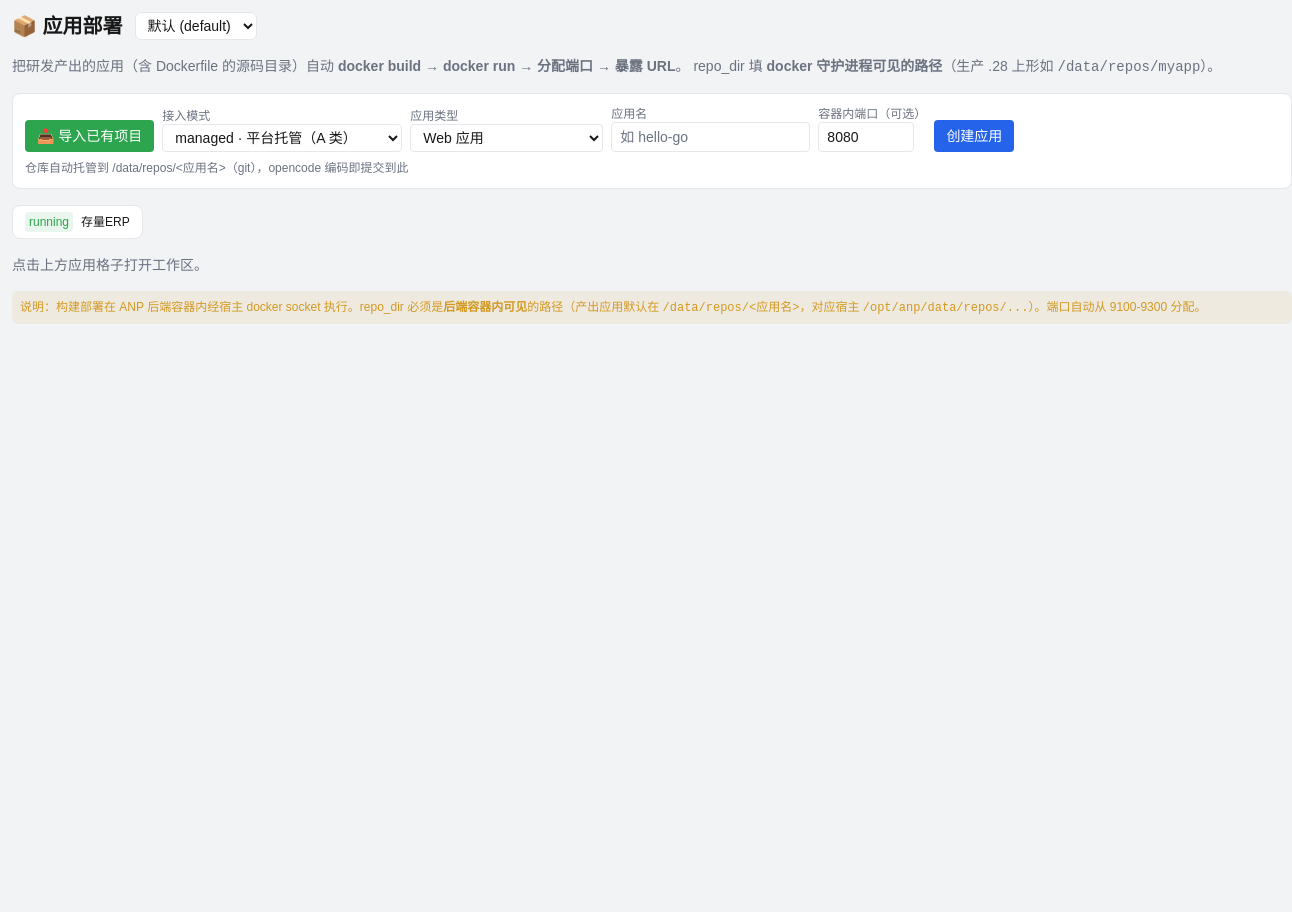
it: ApplicationsPage tab 化壳 › external 应用：探活卡+🔗 访问；无环境卡/DevWizard
Step 1. Click the text "存量ERP" → (105, 222), box [81,214,130,230]
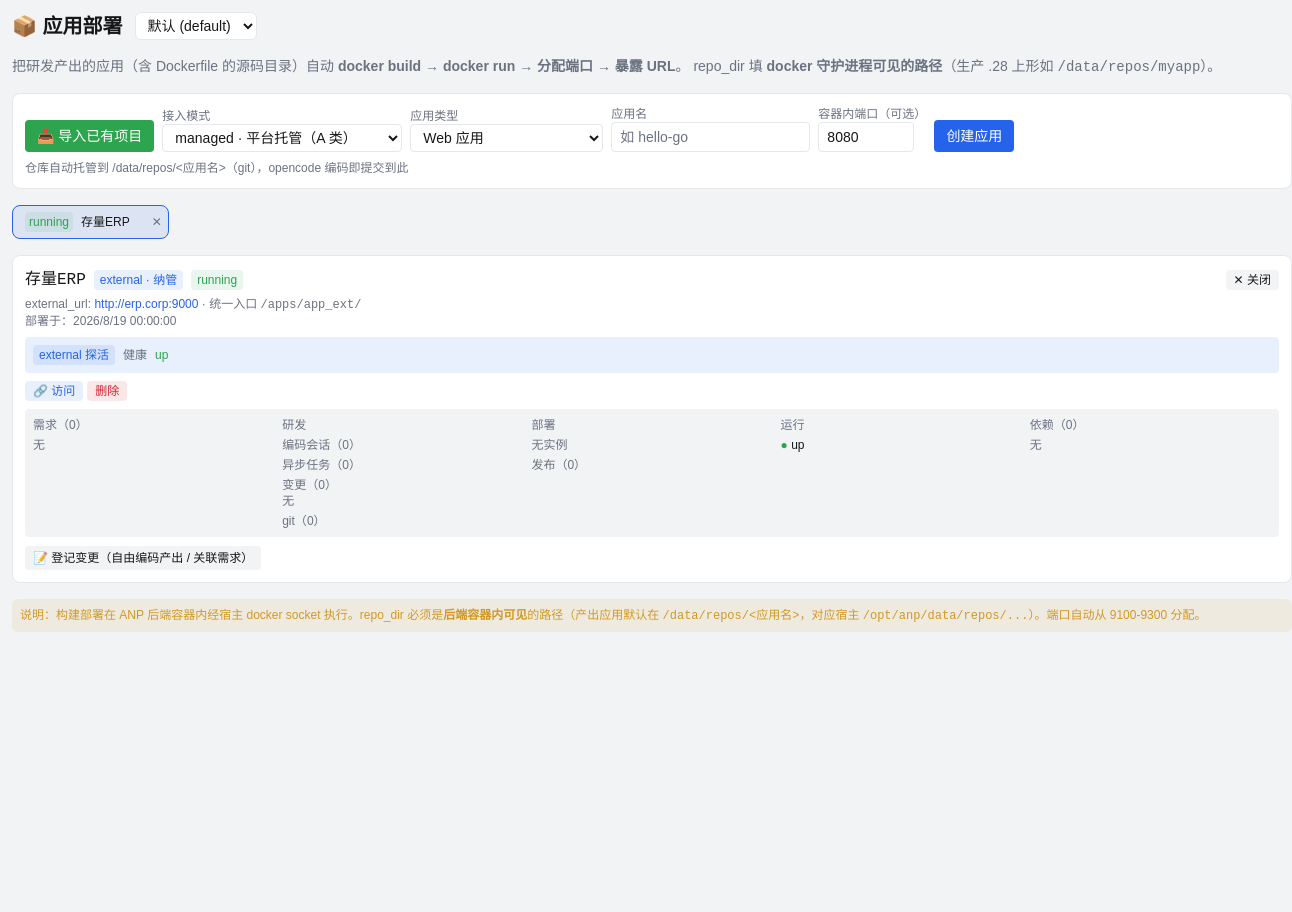
Expected: the element with test id "app-tab-panel" is shown, [12,255,1291,583]
Expected: the text "external 探活" is shown, [33,345,115,365]
Expected: the text "up" is shown, [155,347,168,363]
